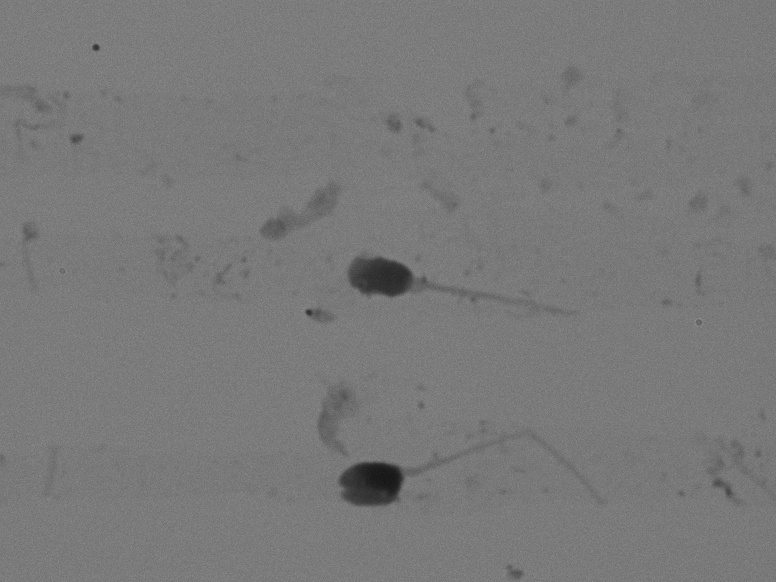Abnormal: (323, 220, 637, 366), (309, 407, 630, 540)
